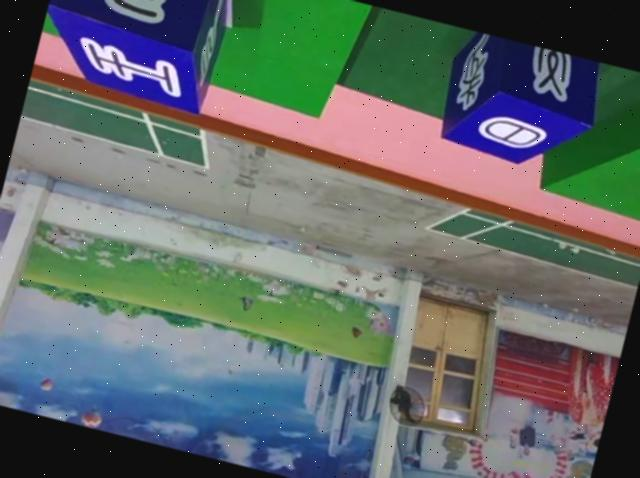R2 Fake Blue: (435, 29, 610, 179), (32, 0, 244, 116)
